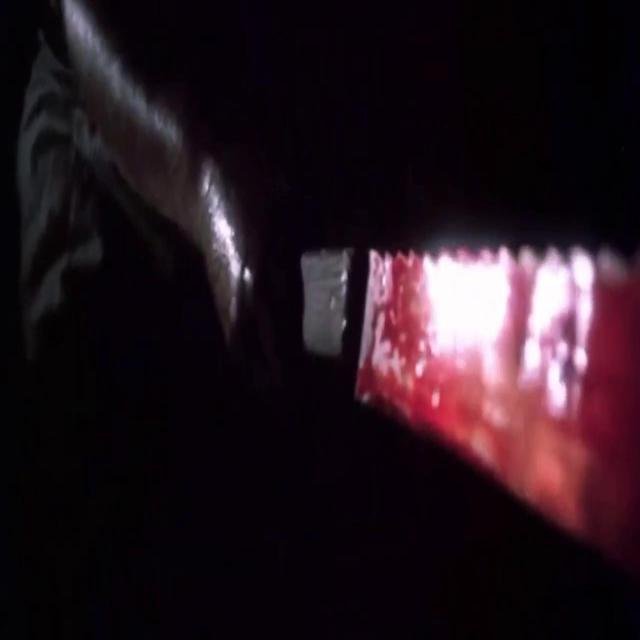flood: (336, 204, 638, 548)
